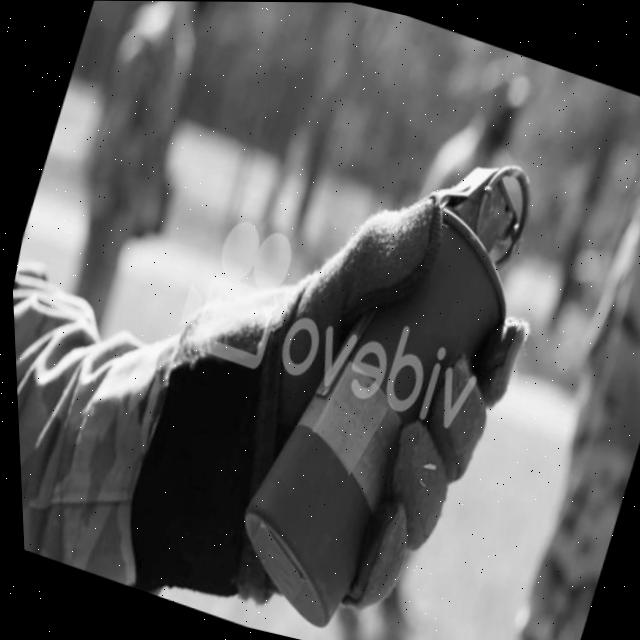grenade: (184, 98, 580, 640)
